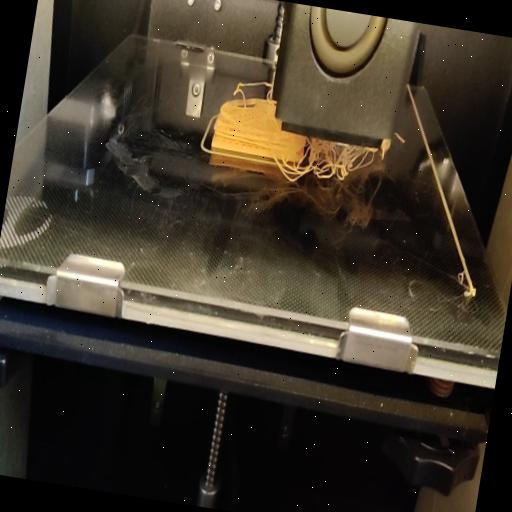spaghetti: (296, 132, 384, 188), (234, 73, 276, 102)
